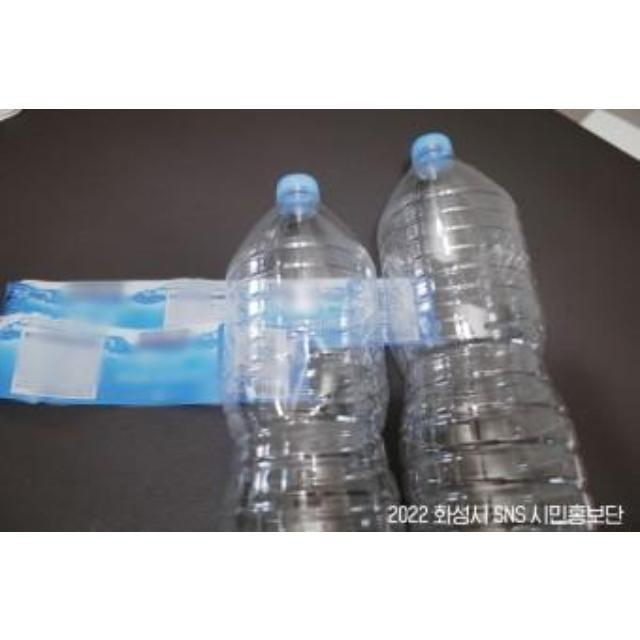Botella de plastico: (380, 128, 595, 534), (217, 177, 409, 531)
